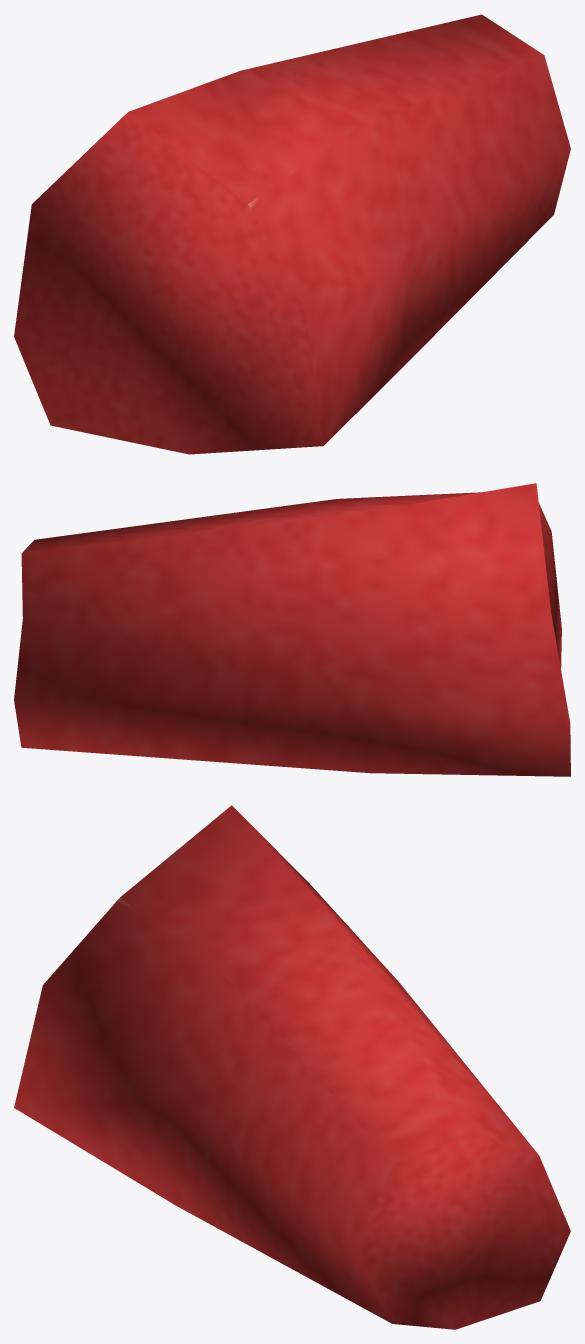
File: g_thigh.fbx
The picture shows the model from 3 angles, top to bottom: view 1: azimuth 30°, elevation 25°; view 2: azimuth 150°, elevation 25°; view 3: azimuth 270°, elevation 25°; orthographic projection. The views are drawn at different scales.
Visible parts, largest first — view 1: thigh; view 2: thigh; view 3: thigh.
Boxes of the visible parts, x1,y1,x2,y2 form: thigh: [14, 14, 570, 454]; thigh: [14, 483, 570, 776]; thigh: [14, 805, 570, 1329].
Size of the model in its own units: 0.3856 by 0.3281 by 0.1979.
1 material, 1 textured.
